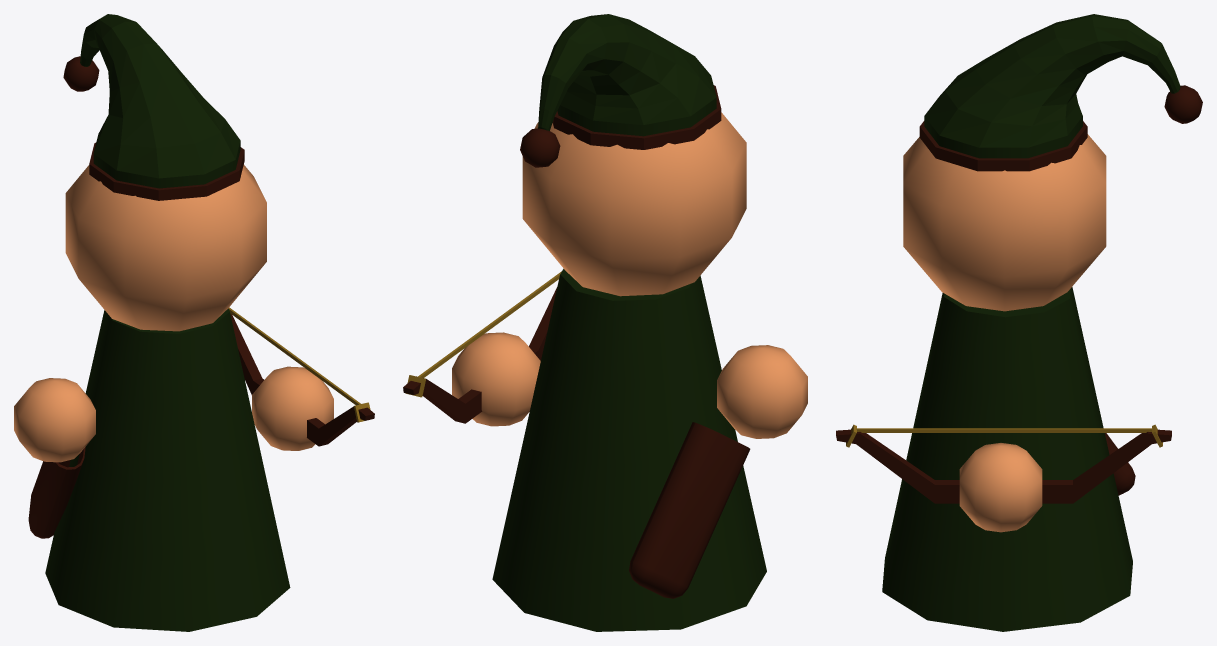
File: RangerGreen.FBX
The picture shows the model from 3 angles, left to right: view 1: azimuth 30°, elevation 25°; view 2: azimuth 150°, elevation 25°; view 3: azimuth 270°, elevation 25°; orthographic projection. The views are drawn at different scales.
Visible parts, largest first — view 1: Sphere002; view 2: Sphere002; view 3: Sphere002.
Boxes of the visible parts, x1,y1,x2,y2 form: Sphere002: (14,14,374,631); Sphere002: (403,14,807,631); Sphere002: (836,14,1202,631).
Size of the model in its own units: 52.52 by 51.17 by 86.04.
